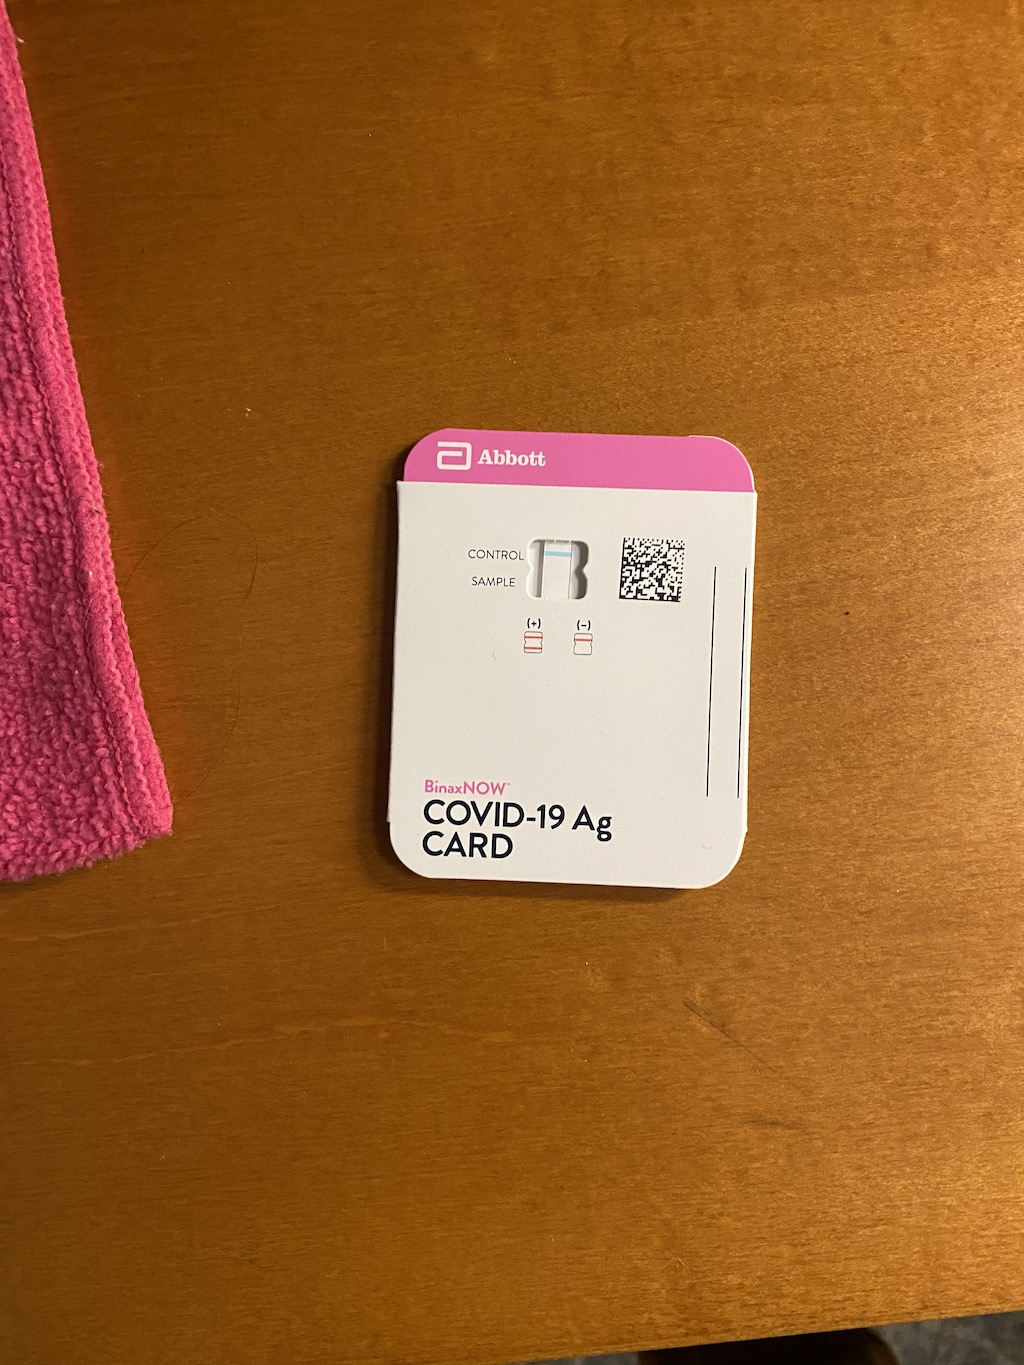binax-negative: (375, 415, 770, 899)
